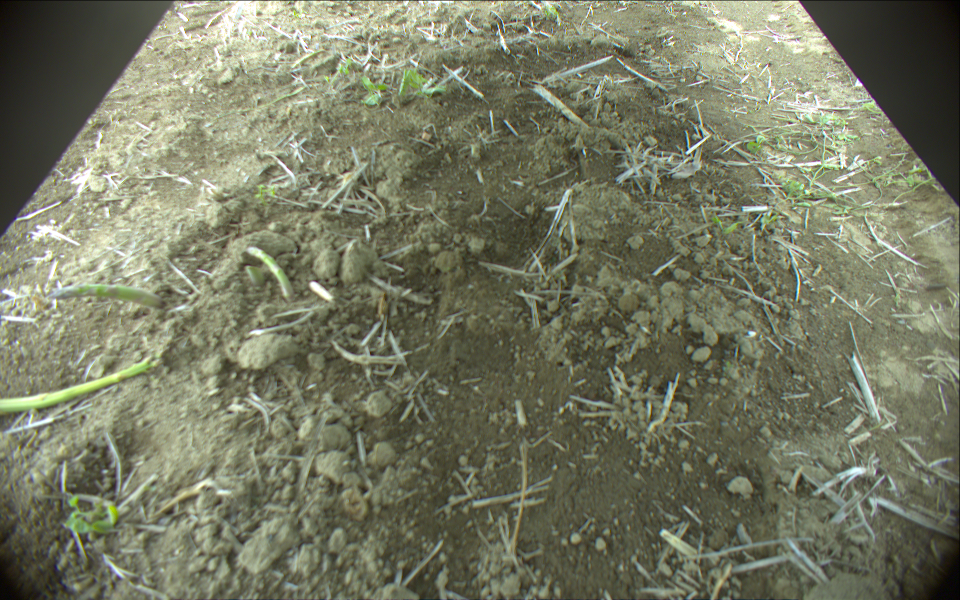aspa: (1, 355, 157, 416), (49, 277, 164, 310), (243, 247, 297, 298), (244, 266, 267, 287)
